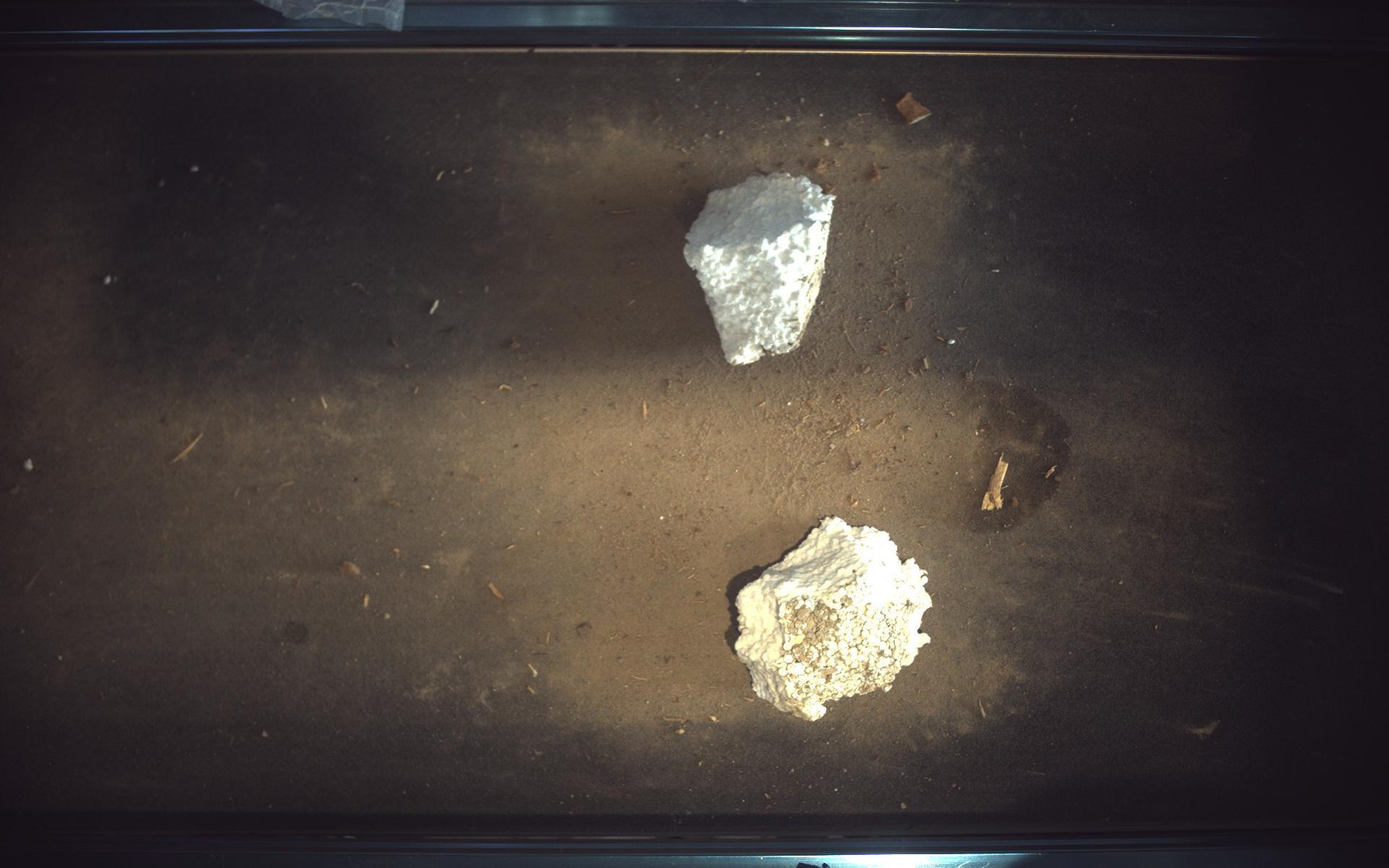foam: (736, 518, 933, 722), (684, 172, 836, 365)
